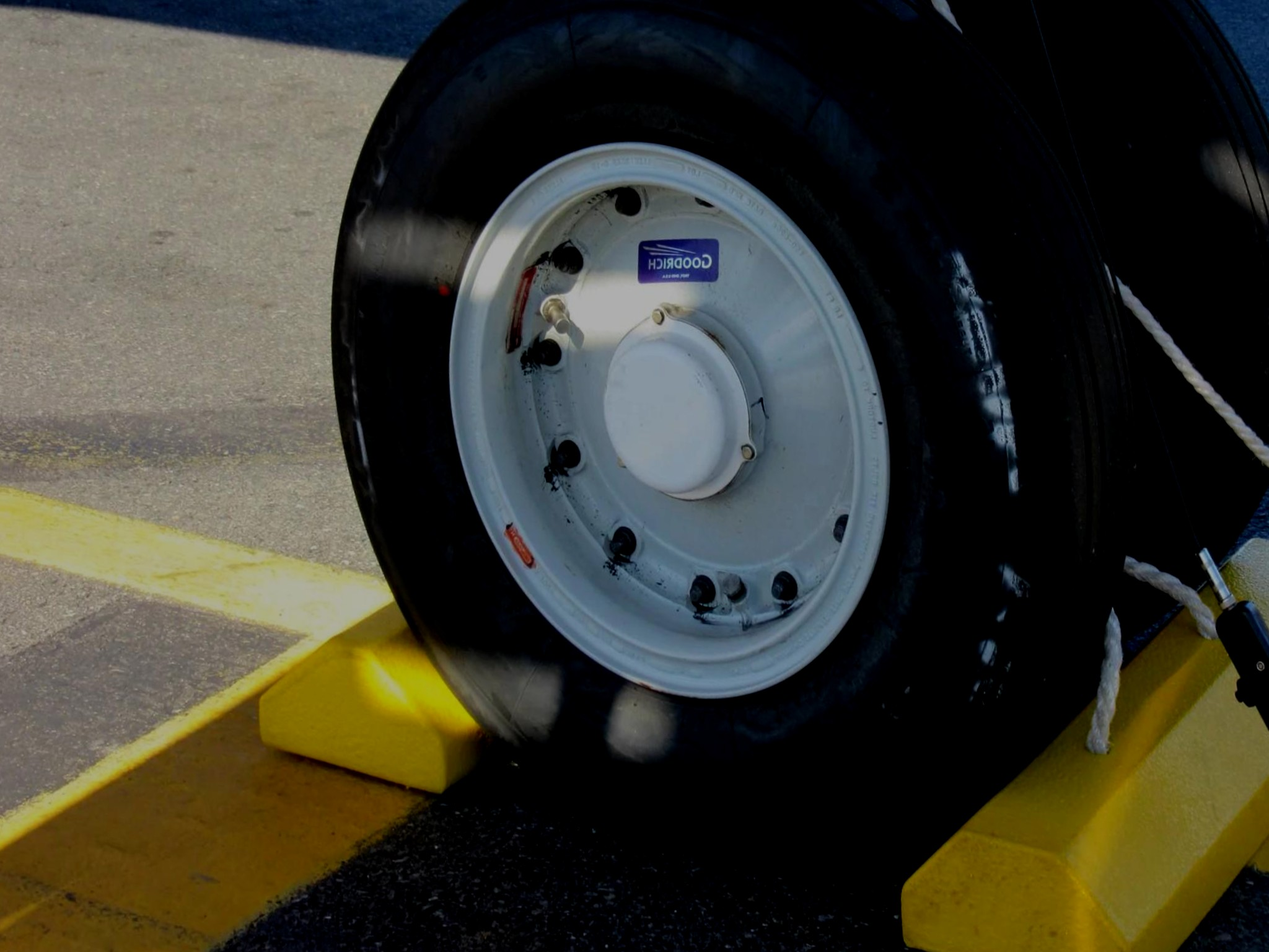chock: (857, 466, 1269, 952), (241, 393, 693, 813)
wheel: (269, 0, 1226, 898), (792, 0, 1269, 612)
